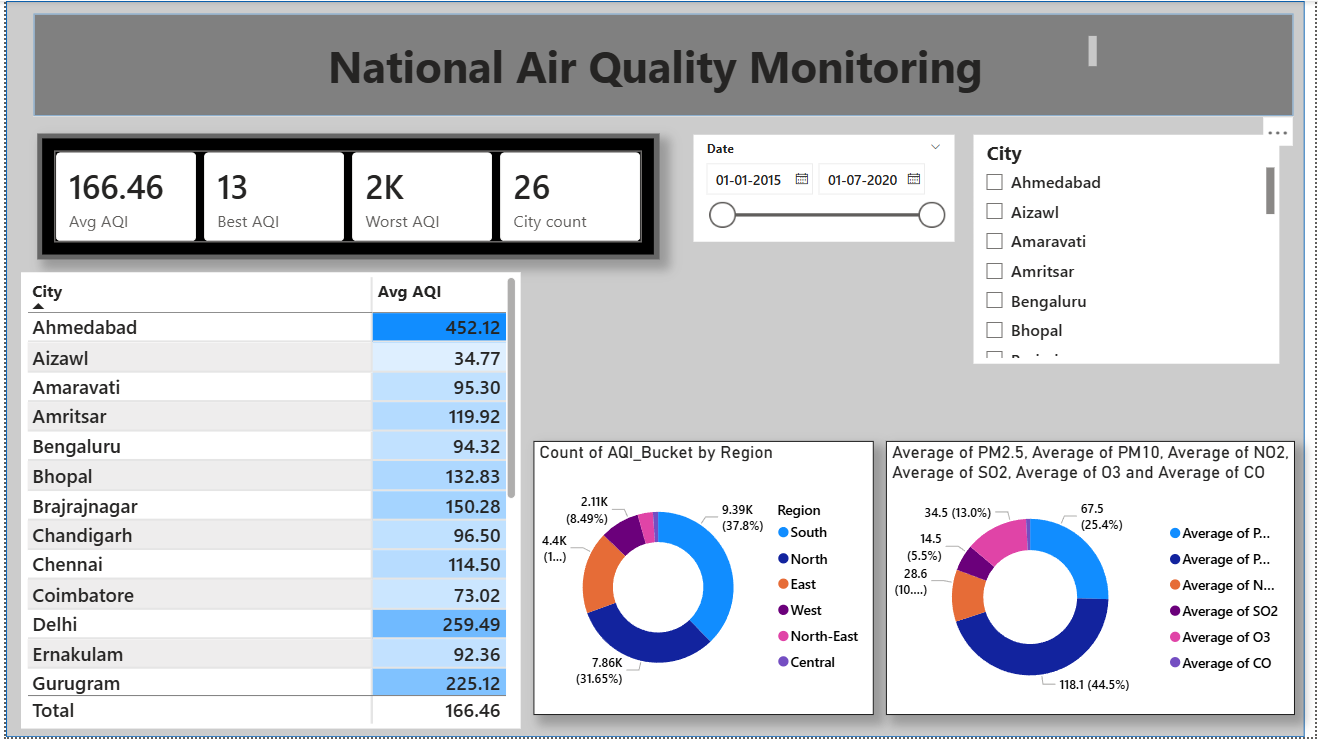

This screenshot's page, from the dashboard's own definition file:
{"tool":"powerbi","page":{"name":"Nationa Air Quality","canvas":[1280,720],"ordinal":0},"visuals":[{"type":"shape","box":[0,0,1270.5,720.2],"z":0},{"type":"cardVisual","fields":{"Data":["Data.Avg AQI","Data.Best AQI","Data.Worst AQI","Data.City count"]},"box":[30.6,129.6,609,123.5],"z":1000},{"type":"shape","box":[26.9,12.2,1232.6,100.3],"z":2000},{"type":"textbox","box":[205.4,29.3,867,67.3],"z":3000},{"type":"tableEx","fields":{"Values":["Data.City","Data.Avg AQI"]},"box":[14.7,265.4,489.1,446.3],"z":4000},{"type":"donutChart","fields":{"Category":["Data.Region"],"Y":["CountNonNull(Data.AQI_Bucket)"]},"box":[516,430.4,332.6,267.8],"z":5000},{"type":"slicer","fields":{"Values":["Data.City"]},"box":[946.5,130.8,299.6,223.8],"z":6000},{"type":"slicer","fields":{"Values":["Data.Date"]},"box":[672.6,130.8,254.3,103.9],"z":7000},{"type":"donutChart","fields":{"Y":["Avg(Data.PM2.5)","Avg(Data.PM10)","Avg(Data.NO2)","Avg(Data.SO2)","Avg(Data.O3)","Avg(Data.CO)"]},"box":[860.9,430.4,399.9,267.8],"z":8000}]}

Visuals, with their boxes in screenshot pixels (x1, y1, x2, y2), scaled from the page's 1280x720 canvas onto the 1318x739 screenshot:
shape: box=[0, 0, 1308, 738]
cardVisual - Data.Avg AQI x Data.Best AQI: box=[32, 133, 659, 260]
shape: box=[28, 13, 1297, 115]
textbox: box=[211, 30, 1104, 99]
tableEx - Data.City x Data.Avg AQI: box=[15, 272, 519, 730]
donutChart - Data.Region x CountNonNull(Data.AQI_Bucket): box=[531, 442, 874, 717]
slicer - Data.City: box=[975, 134, 1283, 364]
slicer - Data.Date: box=[693, 134, 954, 241]
donutChart - Avg(Data.PM2.5) x Avg(Data.PM10): box=[886, 442, 1298, 717]
